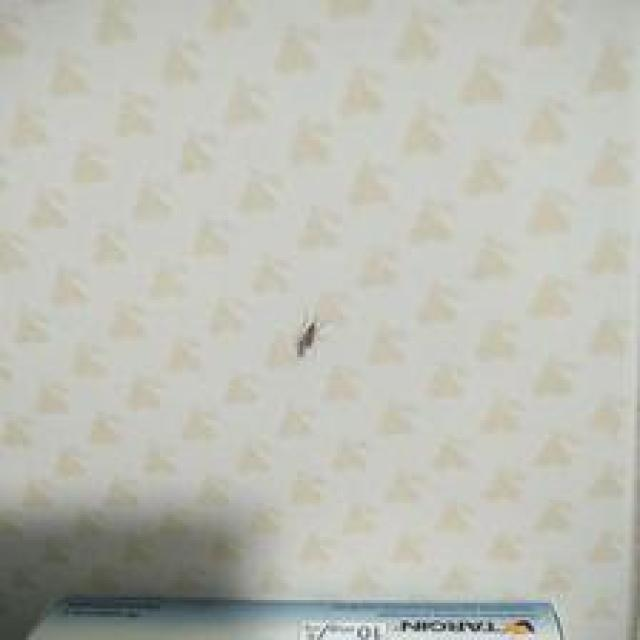Culex: (294, 317, 320, 357)
